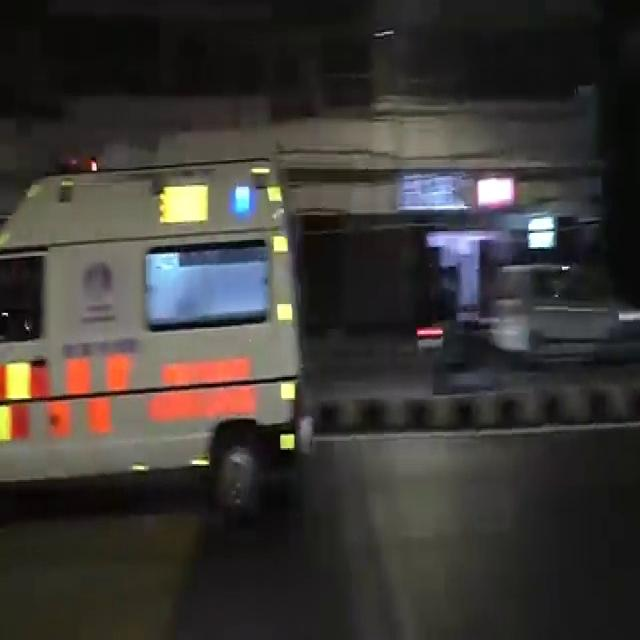ambulance: (0, 170, 316, 501)
